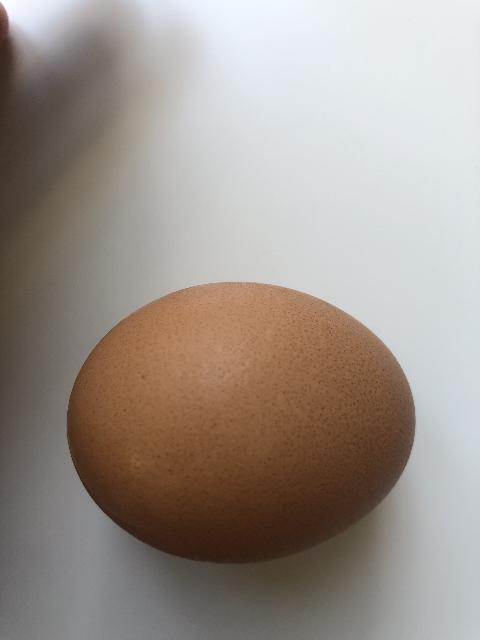Sano: (65, 279, 417, 565)
